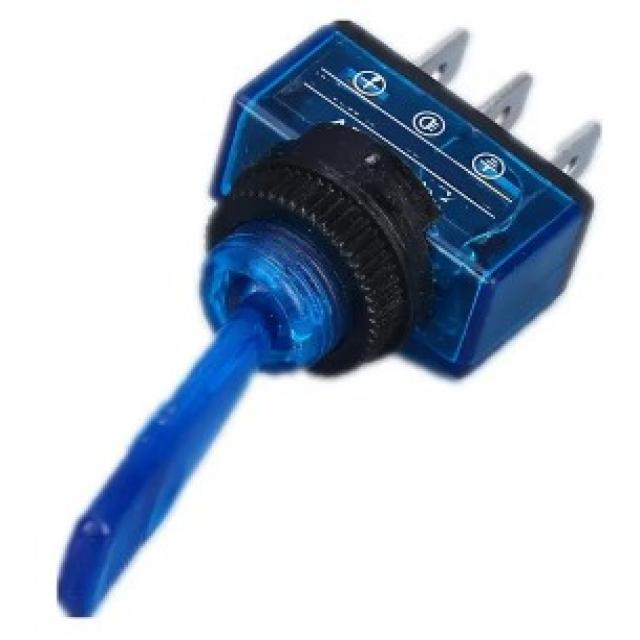toggle switch: (50, 162, 417, 617)
